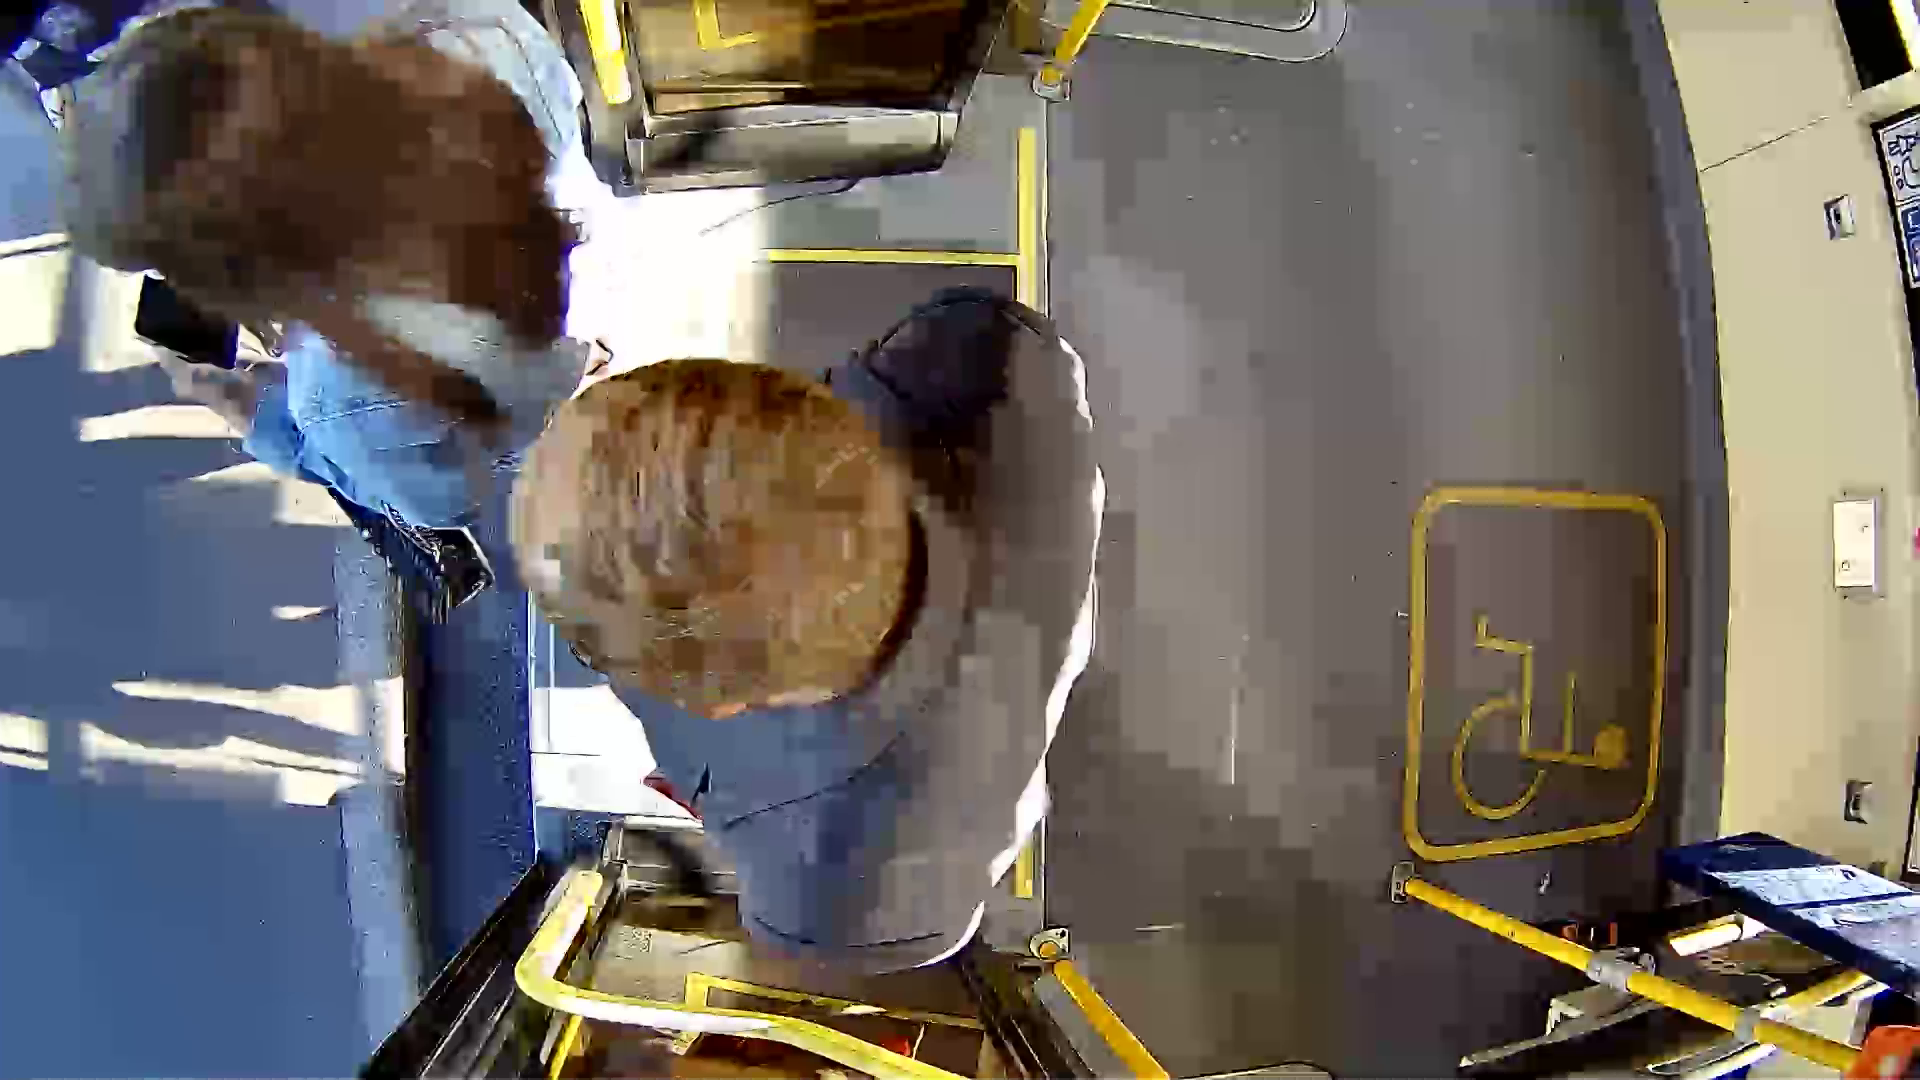person: (491, 353, 1195, 922), (47, 8, 641, 558)
